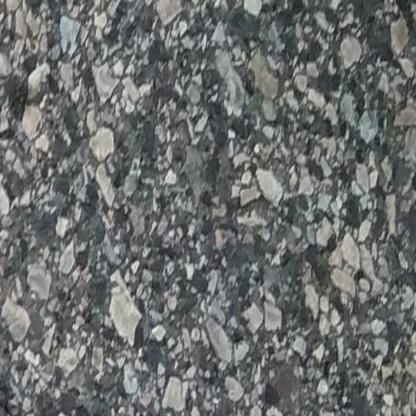Cracks: (0, 365, 65, 416)
